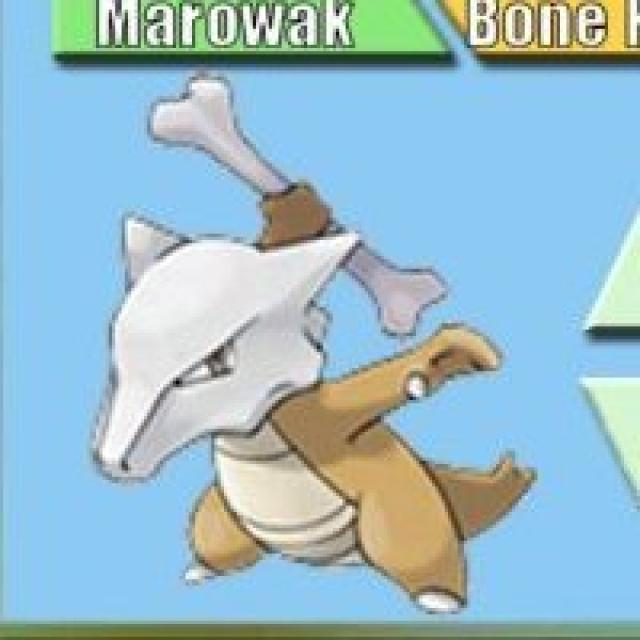Marowak: (95, 179, 492, 612)
